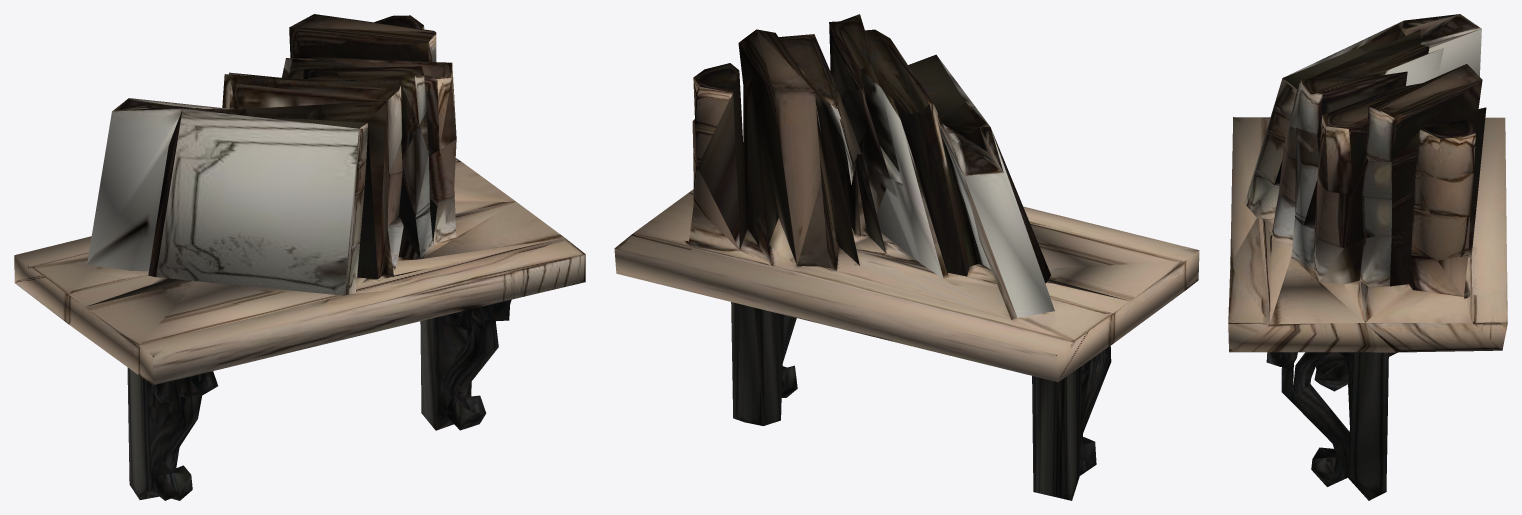
File: lhi_wall_shelf_books.glb
3 renders of one model, left to right at view 1: azimuth 30°, elevation 25°; view 2: azimuth 150°, elevation 25°; view 3: azimuth 270°, elevation 25°, orthographic. The views are drawn at different scales.
Parts seen in each view (by area): view 1: material; view 2: material; view 3: material.
Part boxes in pixels (<box>): material: <box>14,14,585,500</box>; material: <box>614,14,1199,500</box>; material: <box>1228,14,1507,500</box>.
Size of the model in its own units: 1.04 by 0.9015 by 0.5942.
Materials: 1 (1 with a texture image).
